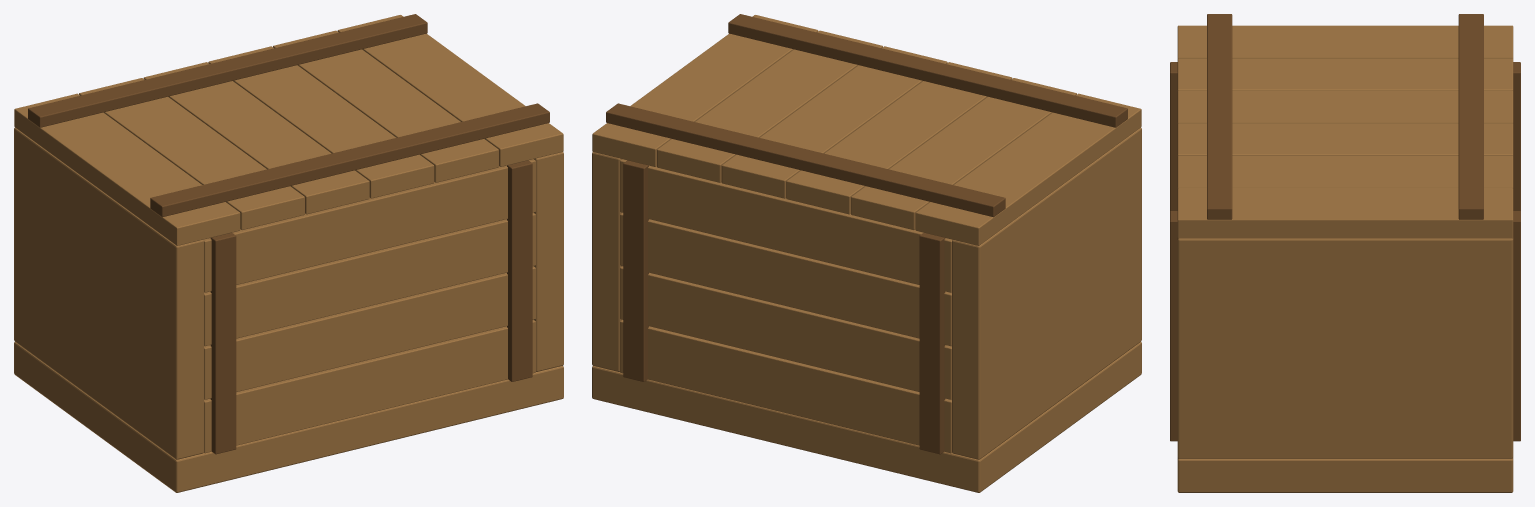
The picture shows the model from 3 angles, left to right: view 1: azimuth 30°, elevation 25°; view 2: azimuth 150°, elevation 25°; view 3: azimuth 270°, elevation 25°; orthographic projection. The views are drawn at different scales.
Visible parts, largest first — view 1: CRATE_End.001, CRATE_Base, CRATE_SideBoard.004, CRATE_SideBoard.001, CRATE_SideBoard.002, CRATE_SideBoard.003, LID_Plank_0, LID_Rail.001, LID_Rail, LID_Plank_3, LID_Plank_1, LID_Plank_2 (+5 smaller); view 2: CRATE_End.001, CRATE_Base, CRATE_SideBoard, CRATE_SideBoard.005, CRATE_SideBoard.006, CRATE_SideBoard.007, LID_Plank_0, LID_Rail, LID_Rail.001, LID_Plank_3, LID_Plank_1, LID_Plank_2 (+5 smaller); view 3: CRATE_End, LID_Plank_5, CRATE_Base, LID_Plank_0, LID_Plank_2, LID_Plank_4, LID_Plank_1, LID_Plank_3, LID_Rail, LID_Rail.001, CRATE_Brace.003, CRATE_Brace (+2 smaller).
Part boxes in pixels (bbox=[...]): CRATE_End.001: bbox=[14, 127, 203, 459]; CRATE_Base: bbox=[14, 342, 563, 492]; CRATE_SideBoard.004: bbox=[203, 159, 535, 292]; CRATE_SideBoard.001: bbox=[204, 319, 535, 453]; CRATE_SideBoard.002: bbox=[204, 266, 535, 399]; CRATE_SideBoard.003: bbox=[204, 212, 535, 346]; LID_Plank_0: bbox=[14, 93, 240, 245]; LID_Rail.001: bbox=[150, 103, 549, 217]; LID_Rail: bbox=[28, 14, 427, 127]; LID_Plank_3: bbox=[208, 46, 434, 198]; LID_Plank_1: bbox=[79, 78, 304, 229]; LID_Plank_2: bbox=[143, 62, 369, 214]; CRATE_End.001: bbox=[952, 127, 1141, 459]; CRATE_Base: bbox=[592, 342, 1141, 492]; CRATE_SideBoard: bbox=[620, 159, 952, 292]; CRATE_SideBoard.005: bbox=[620, 319, 951, 453]; CRATE_SideBoard.006: bbox=[620, 266, 951, 399]; CRATE_SideBoard.007: bbox=[620, 212, 951, 346]; LID_Plank_0: bbox=[915, 93, 1141, 245]; LID_Rail: bbox=[606, 103, 1005, 217]; LID_Rail.001: bbox=[728, 14, 1127, 127]; LID_Plank_3: bbox=[721, 46, 947, 198]; LID_Plank_1: bbox=[851, 78, 1076, 229]; LID_Plank_2: bbox=[786, 62, 1012, 214]; CRATE_End: bbox=[1177, 238, 1513, 458]; LID_Plank_5: bbox=[1177, 188, 1513, 238]; CRATE_Base: bbox=[1177, 457, 1513, 492]; LID_Plank_0: bbox=[1177, 25, 1513, 58]; LID_Plank_2: bbox=[1177, 90, 1513, 123]; LID_Plank_4: bbox=[1177, 155, 1513, 188]; LID_Plank_1: bbox=[1177, 58, 1513, 90]; LID_Plank_3: bbox=[1177, 123, 1513, 155]; LID_Rail: bbox=[1458, 14, 1483, 219]; LID_Rail.001: bbox=[1207, 14, 1232, 219]; CRATE_Brace.003: bbox=[1170, 211, 1177, 441]; CRATE_Brace: bbox=[1513, 211, 1520, 441].
Bounding box in the file's own units: 1.1 × 0.75 × 0.837.
